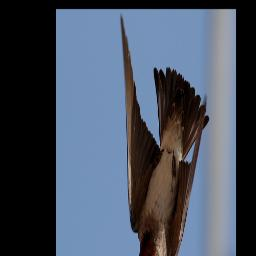Swallow: (120, 13, 209, 256)
